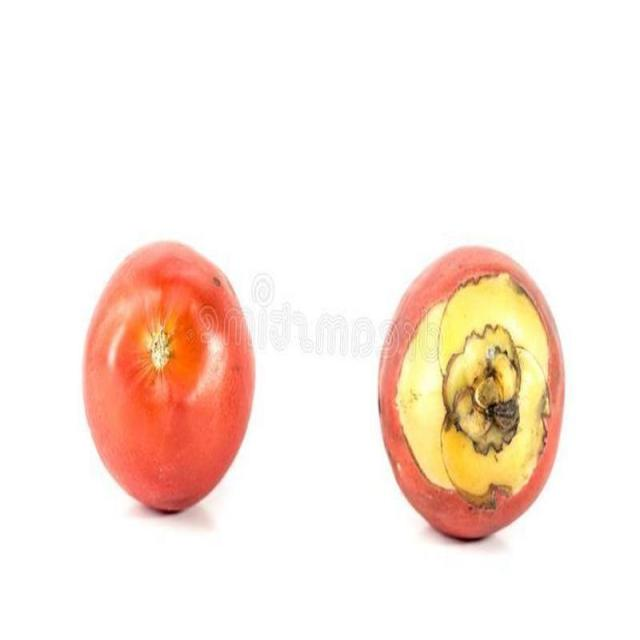good: (376, 247, 566, 542), (82, 241, 258, 518)
